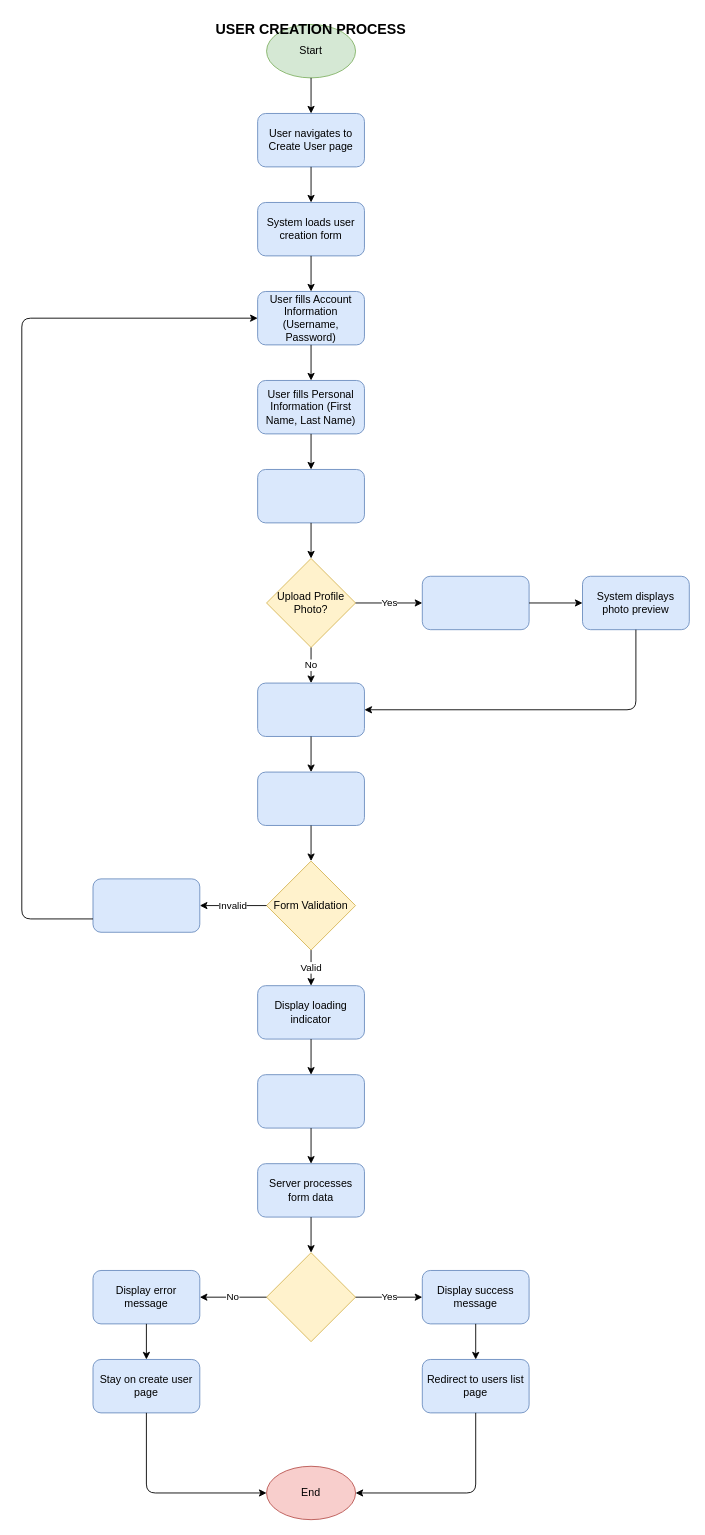
Some shapes in this 705 by 1535 pixel diagram are drawn without their labels. Here are the shapes that lost their labels. From the top down, the centre of each, then its label:
At pixel 310 496: "User fills Contact Information (Email, Phone, Address)".
At pixel 475 602: "User uploads profile photo".
At pixel 310 709: "User selects role from dropdown".
At pixel 310 798: "User clicks 'Create User' button".
At pixel 146 905: "Display validation errors with SweetAlert".
At pixel 310 1101: "Submit form data to server".
At pixel 311 1297: "Creation Successful?".
